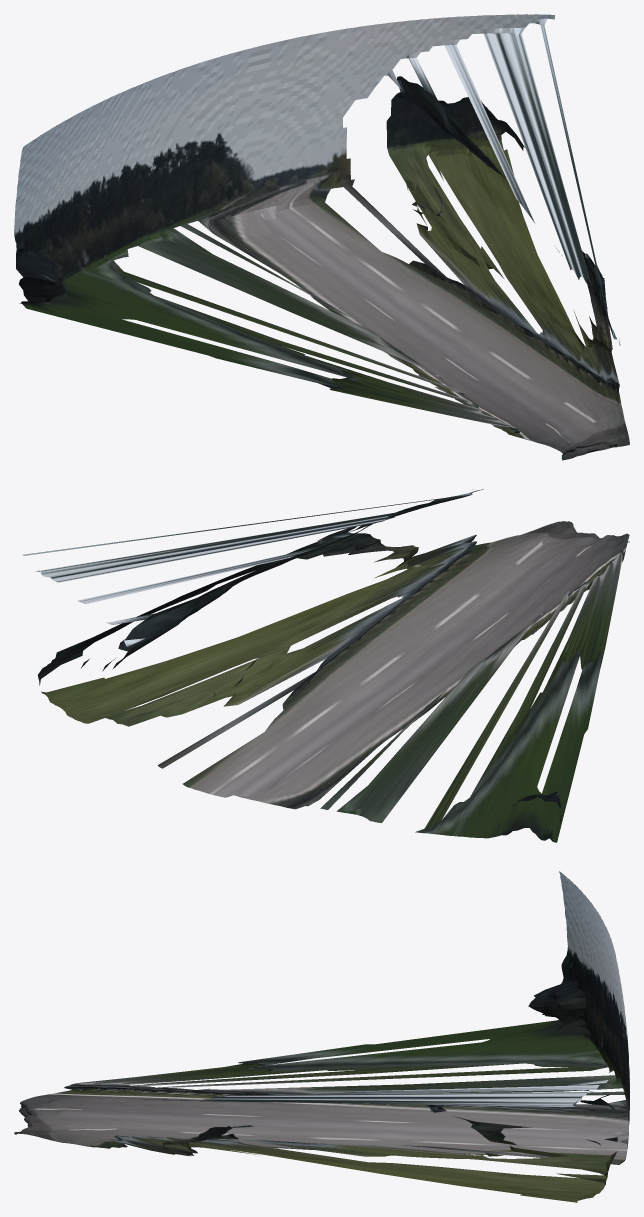
3 views of the same model, one above another, from view 1: azimuth 30°, elevation 25°; view 2: azimuth 150°, elevation 25°; view 3: azimuth 270°, elevation 25° (orthographic). The views are drawn at different scales.
Parts seen in each view (by area): view 1: defaultobject; view 2: defaultobject; view 3: defaultobject.
Boxes of the visible parts, left/top/right/bottom form: defaultobject: left=14, top=14, right=629, bottom=460; defaultobject: left=22, top=489, right=629, bottom=842; defaultobject: left=14, top=871, right=629, bottom=1202.
Size of the model in its own units: 40.2 by 12.66 by 44.66.
Materials: 1 (1 with a texture image).
